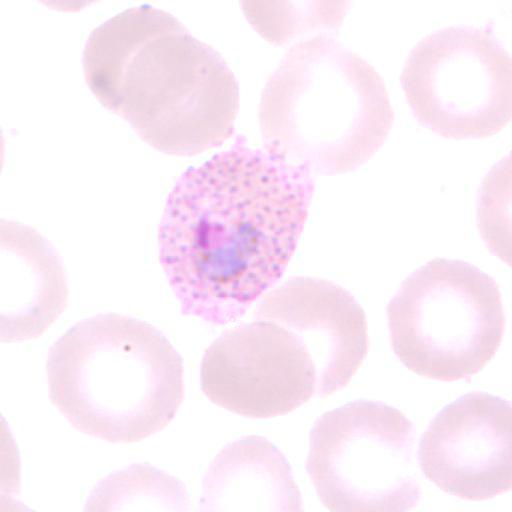Infected: (159, 138, 315, 325)
Uninfected: (44, 310, 180, 443), (260, 39, 391, 170), (390, 260, 503, 385), (124, 36, 243, 150), (306, 400, 421, 512), (401, 26, 512, 142), (257, 276, 366, 392), (200, 320, 315, 418), (86, 6, 187, 112), (419, 395, 512, 502)
